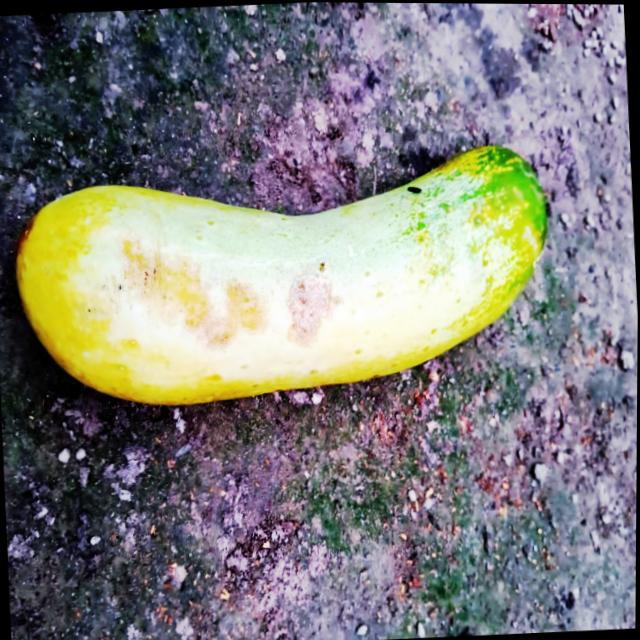Belly-Rot: (116, 230, 272, 362), (283, 269, 344, 350)
